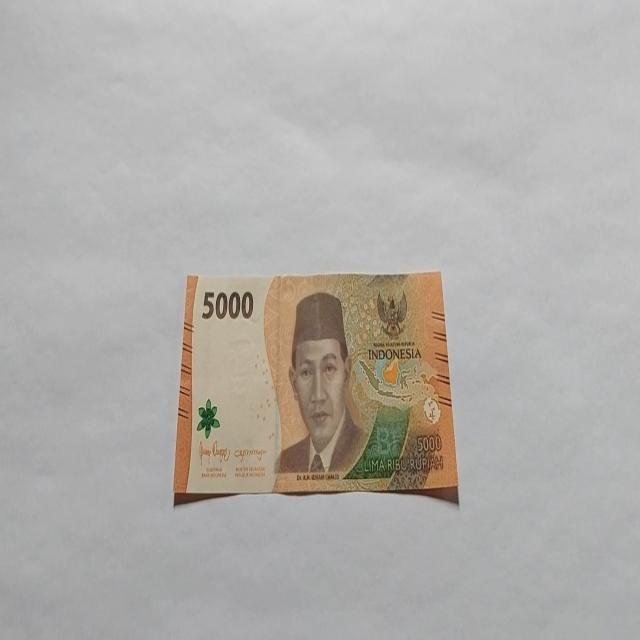lima ribu rupiah: (172, 269, 460, 507), (273, 290, 368, 480)
